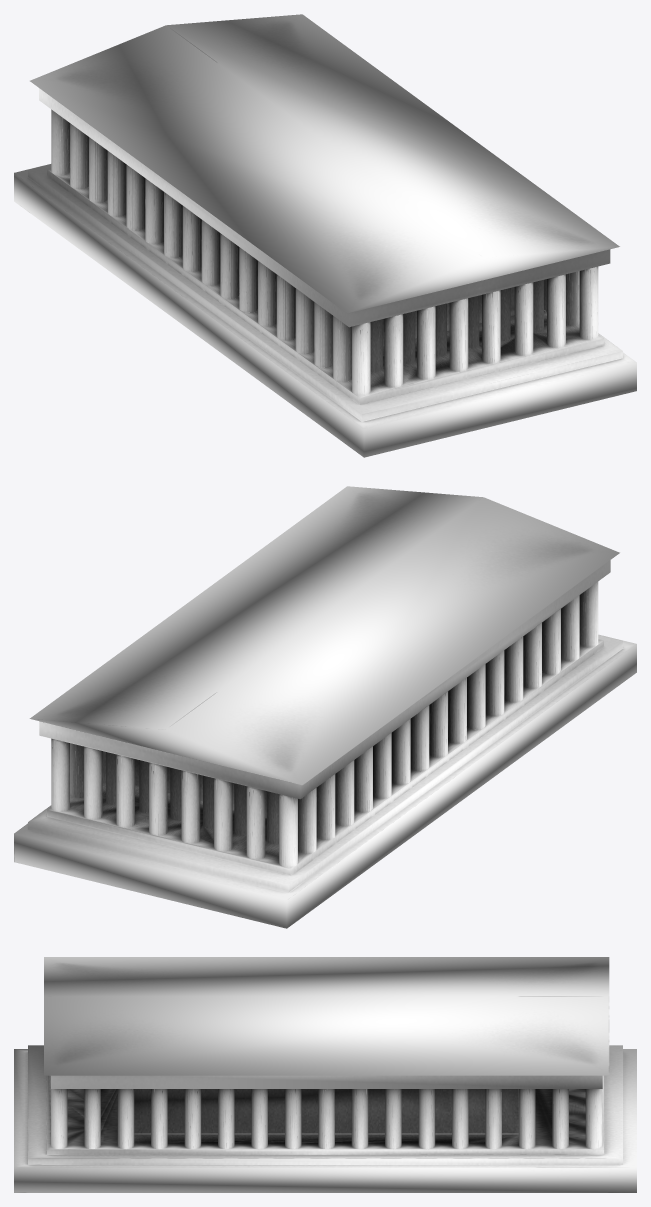
Rendered from greek_thing.glb.
3 views of the same model, one above another, from view 1: azimuth 30°, elevation 25°; view 2: azimuth 150°, elevation 25°; view 3: azimuth 270°, elevation 25° (orthographic). The views are drawn at different scales.
Parts seen in each view (by area): view 1: Temple Whole; view 2: Temple Whole; view 3: Temple Whole.
Boxes of the visible parts, bbox=[...] form: Temple Whole: bbox=[14, 14, 636, 457]; Temple Whole: bbox=[14, 486, 636, 928]; Temple Whole: bbox=[14, 957, 636, 1192].
Bounding box in the file's own units: 33.57 × 18.12 × 74.54.
1 material, 1 textured.
